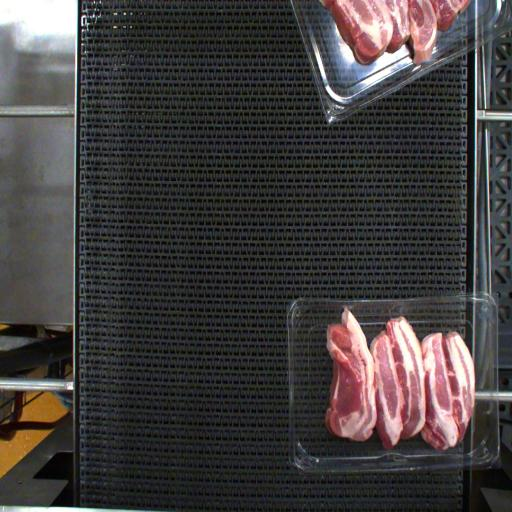packaging-error: (338, 293, 358, 320)
